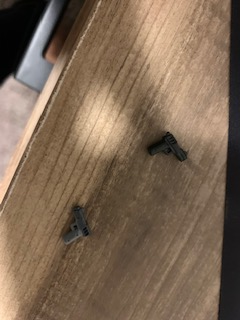pistol: (144, 128, 189, 168), (60, 204, 91, 246)
